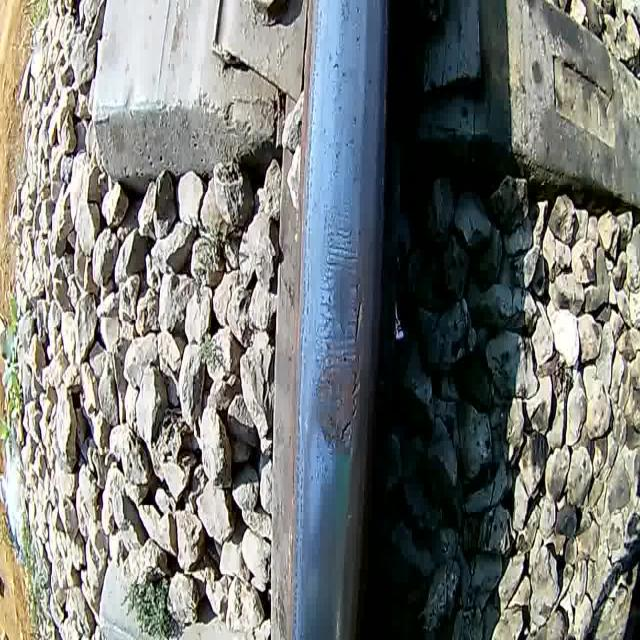Cracks: (348, 269, 367, 420)
Spallings: (340, 412, 356, 460)
Squats: (310, 211, 371, 467)
